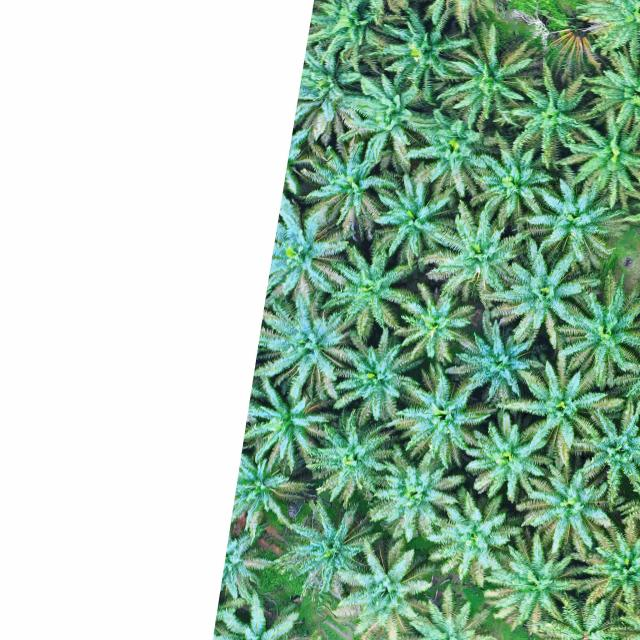Tree: (485, 233, 607, 357), (500, 349, 628, 465), (379, 361, 491, 469), (417, 200, 530, 306), (517, 172, 631, 276), (272, 494, 384, 598), (329, 534, 434, 640), (481, 529, 588, 630), (422, 485, 524, 590), (500, 64, 601, 170), (548, 277, 640, 392), (324, 322, 425, 426), (442, 310, 548, 409), (367, 0, 470, 101), (440, 28, 538, 132), (319, 240, 415, 344), (509, 459, 614, 553), (338, 75, 444, 167), (366, 168, 458, 273), (364, 446, 464, 542), (303, 408, 399, 506), (466, 136, 556, 230), (561, 512, 640, 619), (462, 411, 552, 502), (561, 110, 640, 210), (408, 109, 494, 200), (390, 284, 478, 366), (571, 402, 640, 504), (576, 48, 640, 154)
